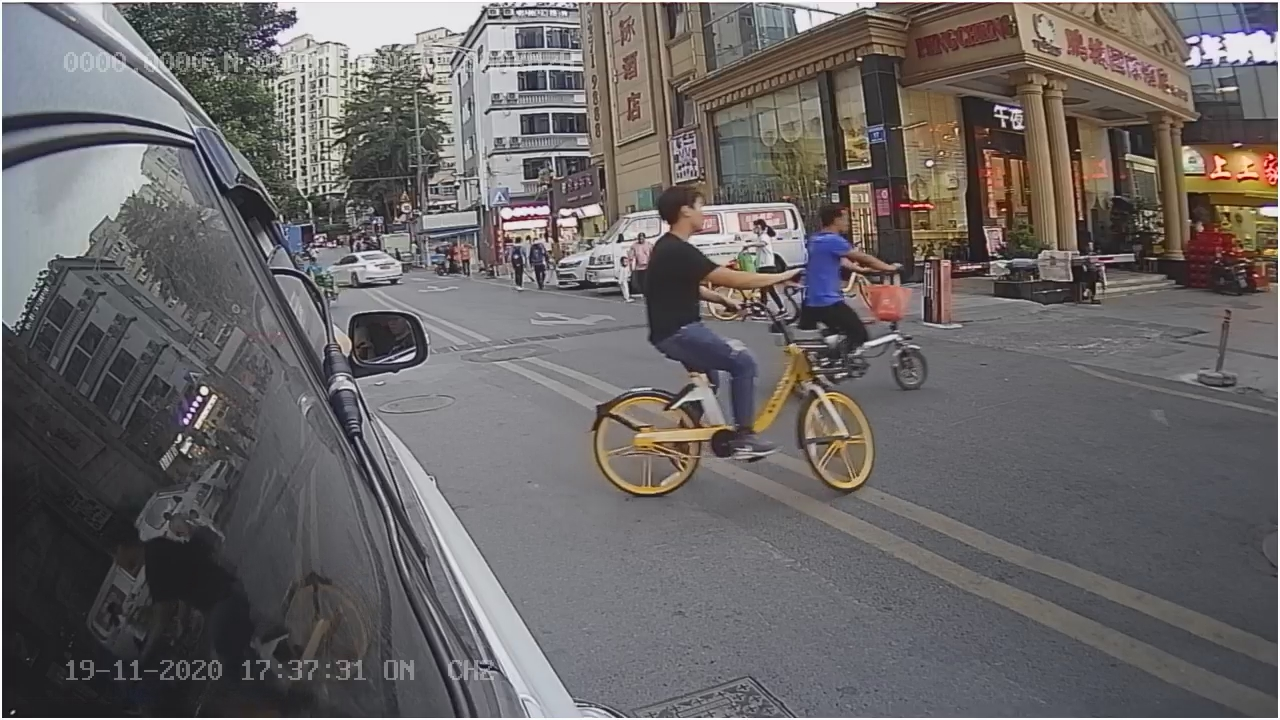person: (636, 188, 779, 374)
